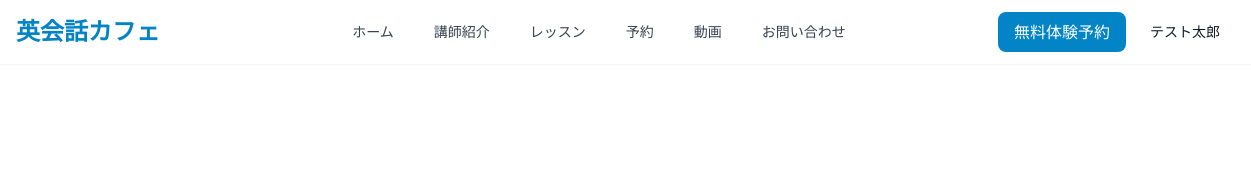
Header dropdown › renders a non-link Admin placeholder while auth is loading
Click the button "テスト太郎".
click(1185, 32)  # box [1138,14,1232,50]
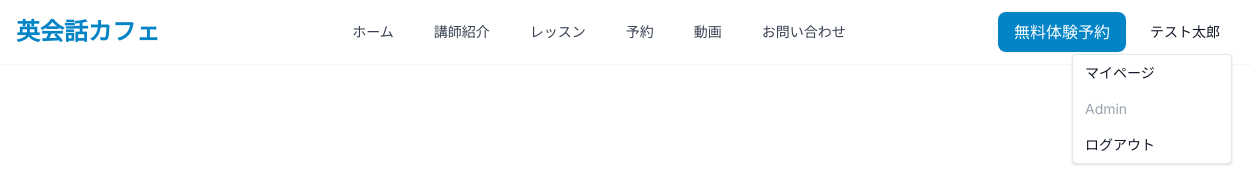
Check: the text "Admin" is shown, box [1085,100,1127,117]
